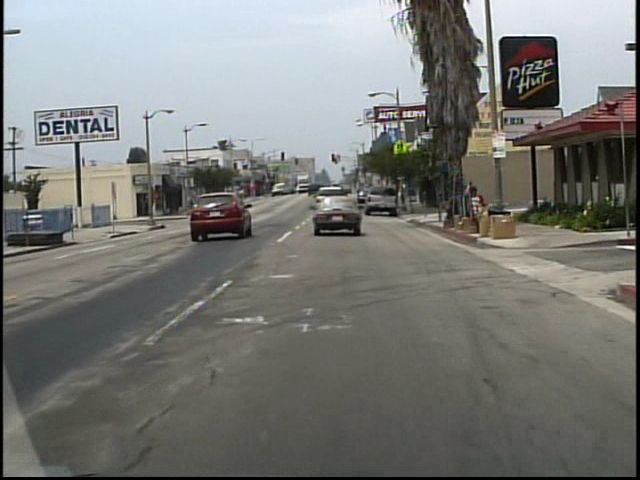person: (471, 181, 481, 212), (464, 182, 472, 208)
